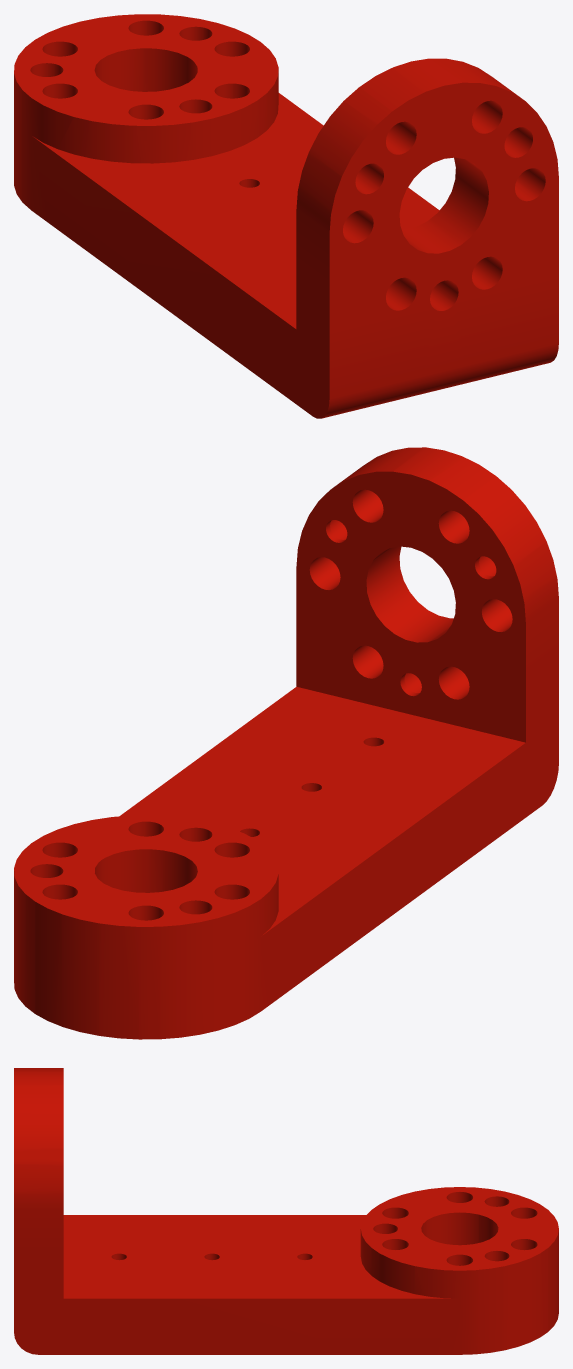
File: wrist_link.dae
3 views of the same model, one above another, from view 1: azimuth 30°, elevation 25°; view 2: azimuth 150°, elevation 25°; view 3: azimuth 270°, elevation 25° (orthographic). The views are drawn at different scales.
Parts seen in each view (by area): view 1: node0; view 2: node0; view 3: node0.
Boxes of the visible parts, bbox=[...] form: node0: bbox=[14, 14, 558, 418]; node0: bbox=[14, 447, 558, 1039]; node0: bbox=[14, 1068, 558, 1354].
Bounding box in the file's own units: 0.032 × 0.042 × 0.088.
